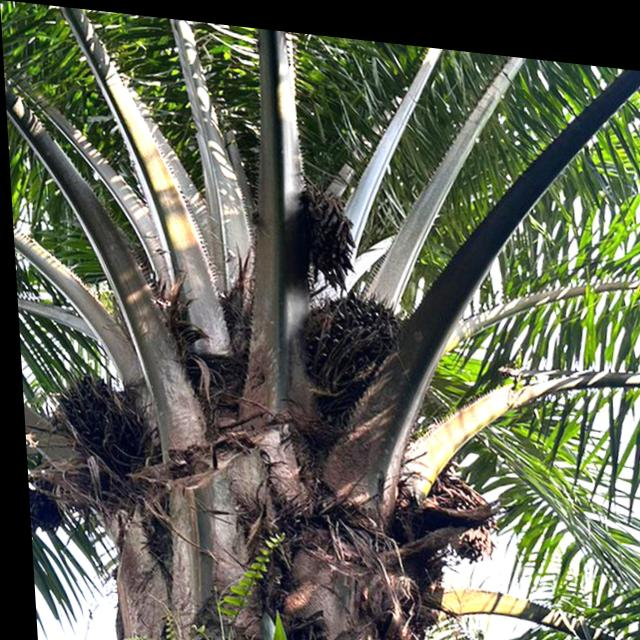ripe: (287, 278, 405, 387), (43, 358, 133, 465)
